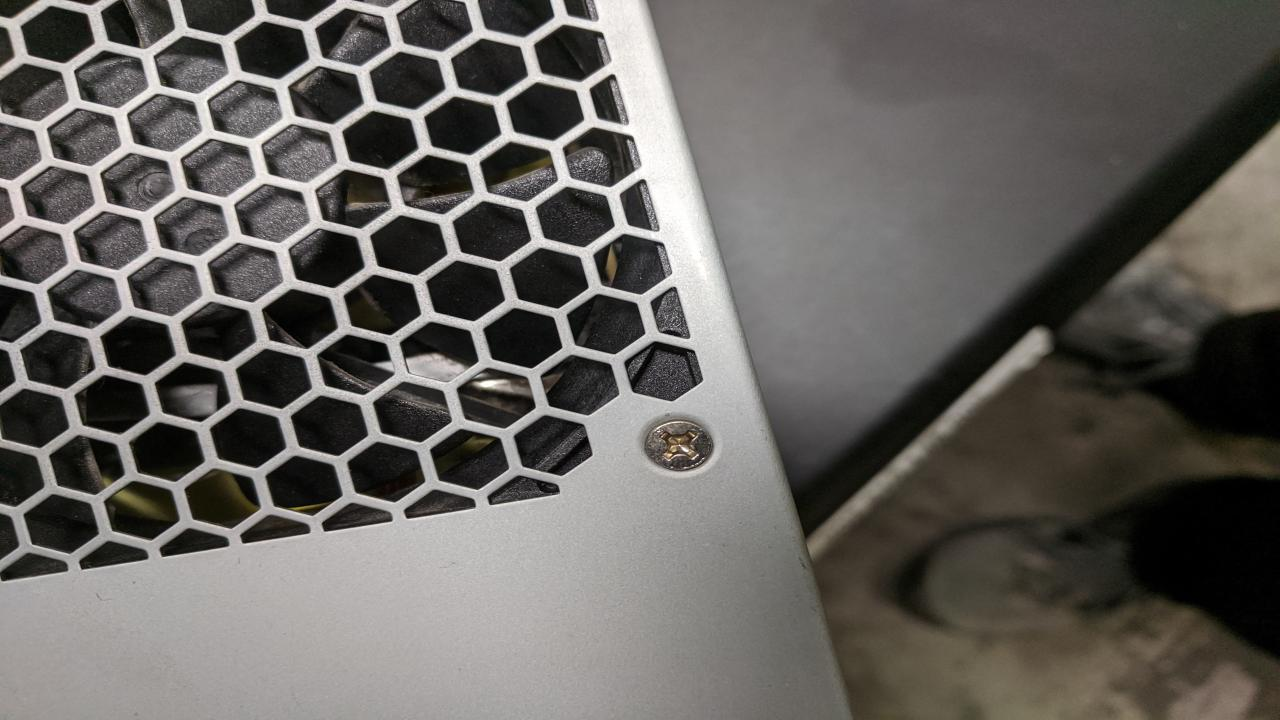CRS: (641, 418, 712, 476)
